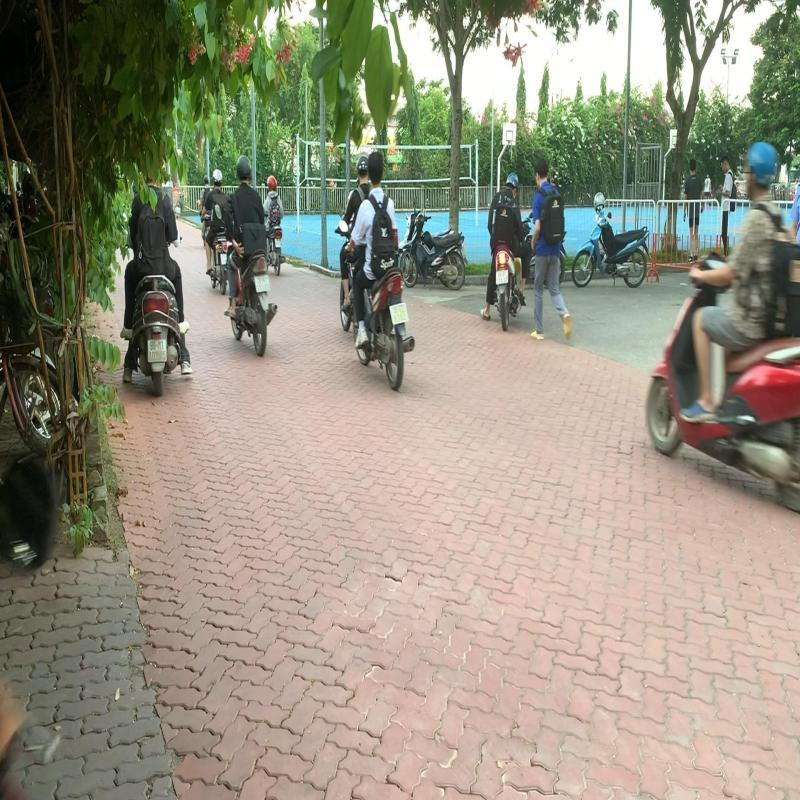nohelmet: (366, 148, 386, 186)
